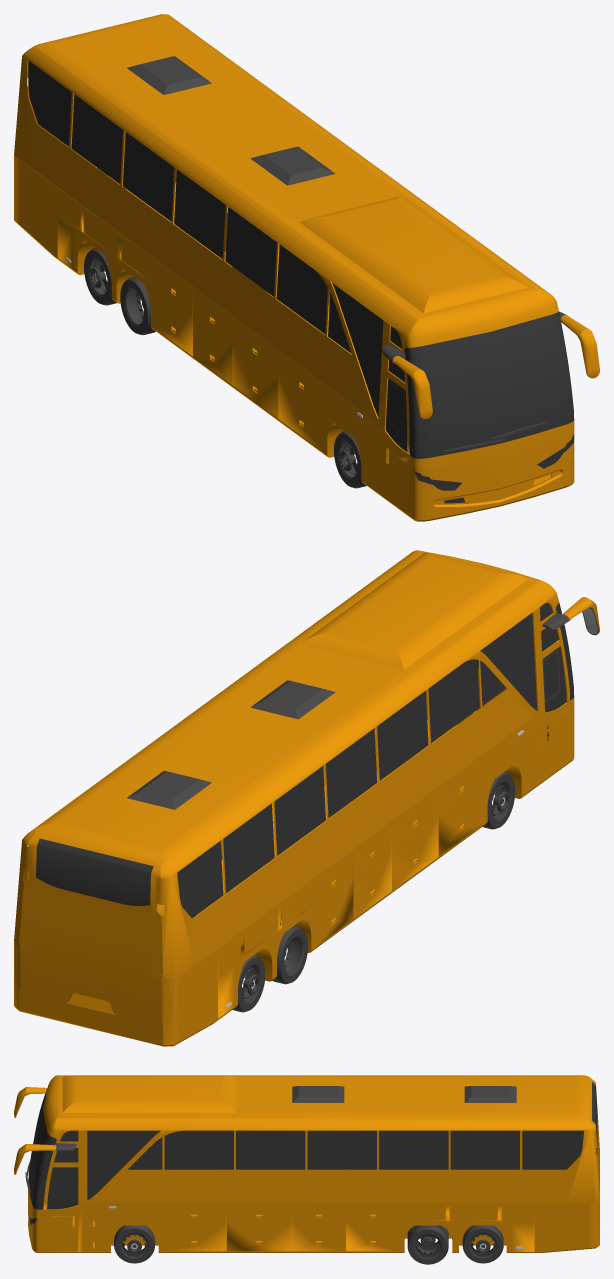
Rendered from Coach.fbx.
3 renders of one model, top to bottom at view 1: azimuth 30°, elevation 25°; view 2: azimuth 150°, elevation 25°; view 3: azimuth 270°, elevation 25°, orthographic. The views are drawn at different scales.
Visible parts, largest first — view 1: Coach+Bus; view 2: Coach+Bus; view 3: Coach+Bus.
Part boxes in pixels (x1,y1,x2,y2): Coach+Bus: (14, 14, 599, 521); Coach+Bus: (14, 550, 599, 1046); Coach+Bus: (14, 1075, 599, 1264).
Size of the model in its own units: 334 by 380 by 1351.
